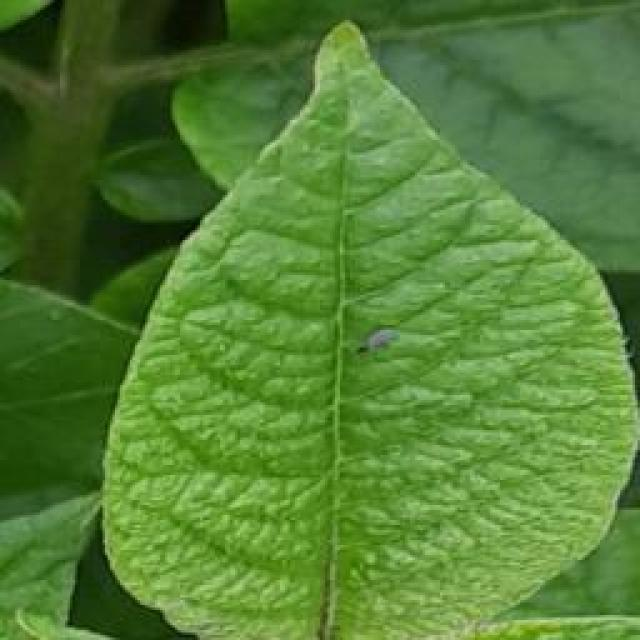healthy: (92, 15, 638, 637)
